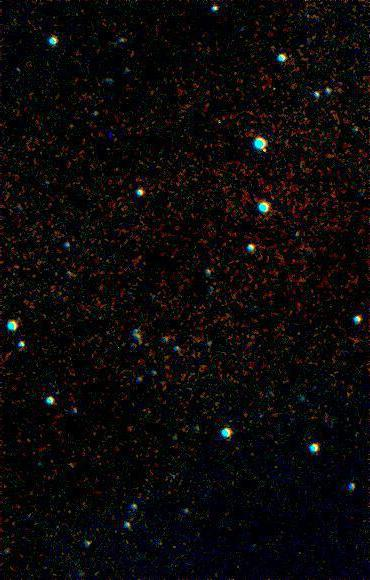star: (245, 137, 275, 167)
